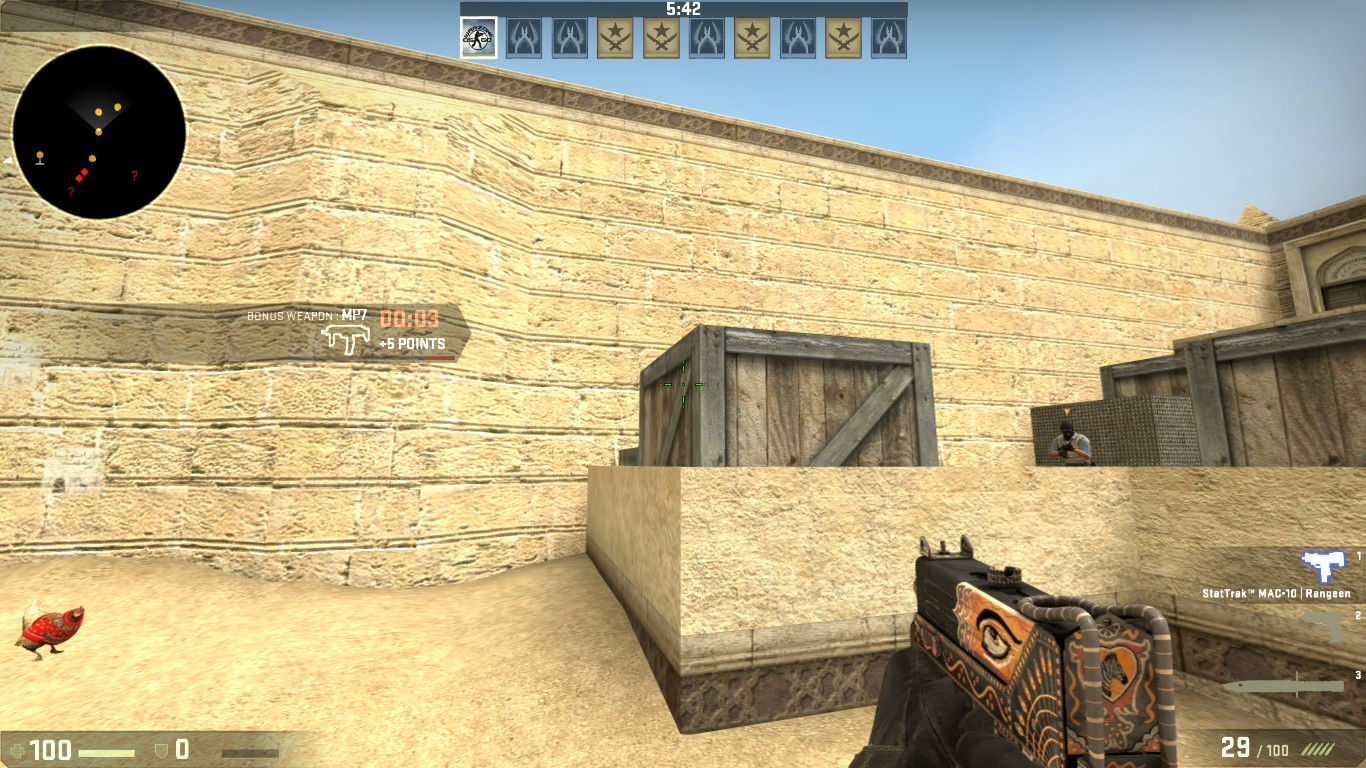t: (1047, 420, 1096, 468)
th: (1056, 421, 1077, 440)
